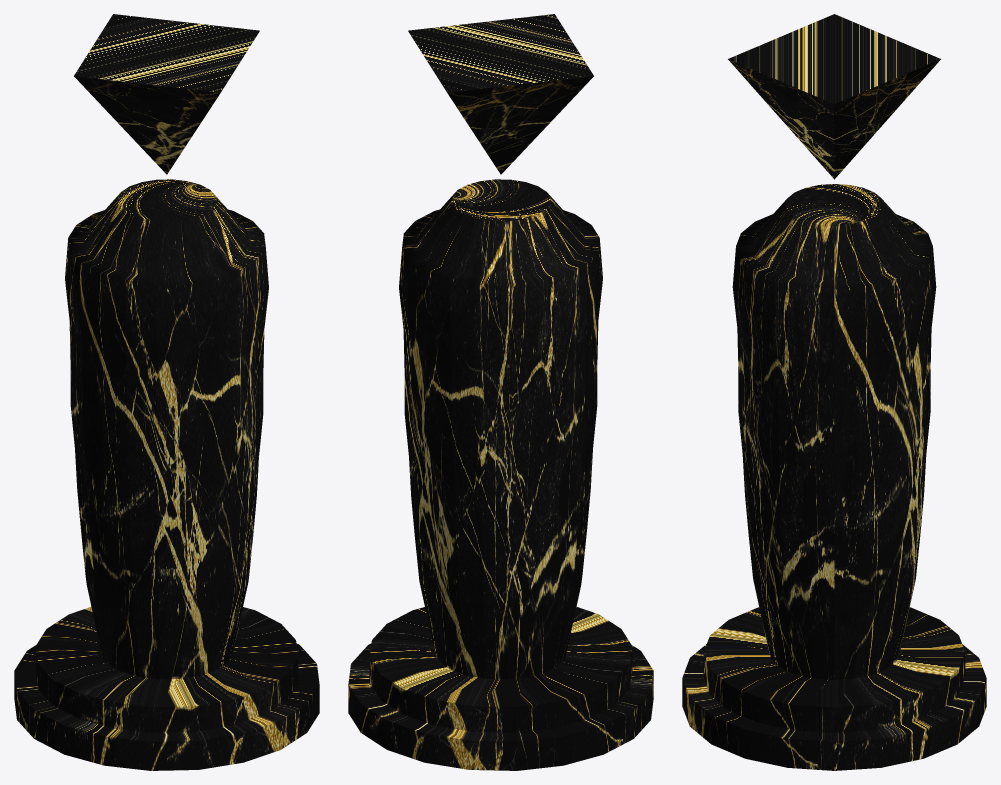
The model's file is enemyUnit.fbx.
The picture shows the model from 3 angles, left to right: view 1: azimuth 30°, elevation 25°; view 2: azimuth 150°, elevation 25°; view 3: azimuth 270°, elevation 25°; orthographic projection.
Visible parts, largest first — view 1: pPyramid2; view 2: pPyramid2; view 3: pPyramid2.
Part boxes in pixels (x1,y1,x2,y2): pPyramid2: (14, 14, 319, 770); pPyramid2: (348, 14, 653, 770); pPyramid2: (682, 14, 986, 770).
Size of the model in its own units: 6.61 by 15.53 by 6.61.
1 material, 1 textured.
